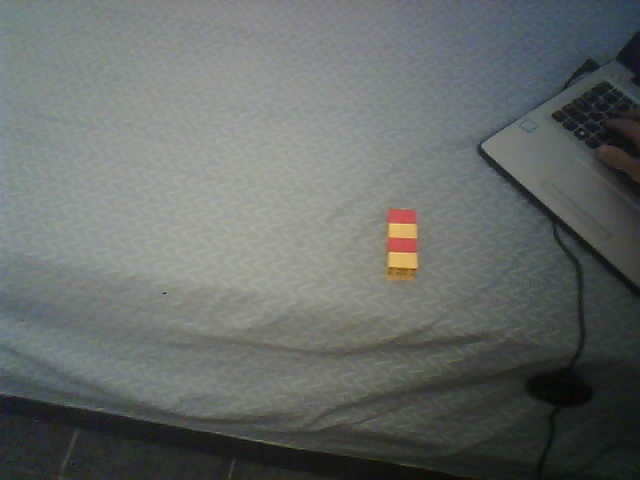lego: (385, 207, 418, 281)
